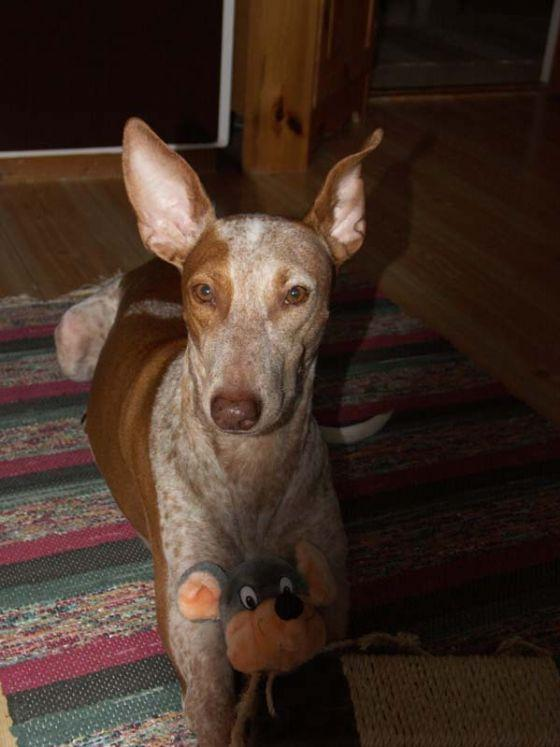Ibizan_hound: (52, 114, 389, 745)
